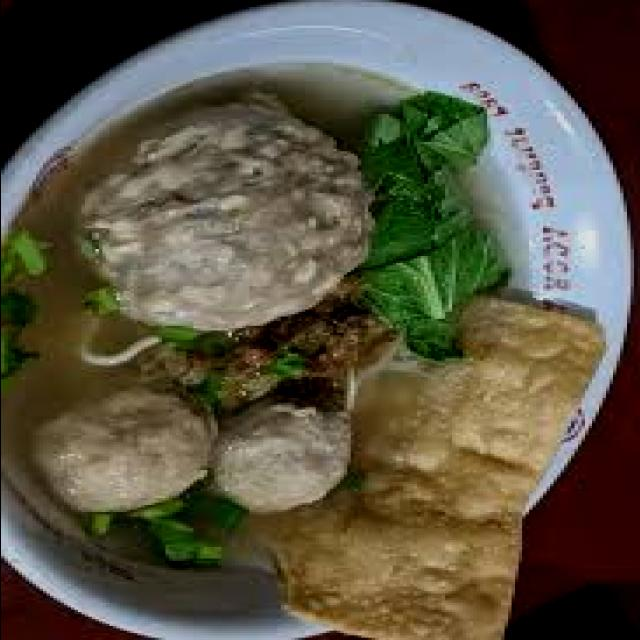bakso: (0, 63, 609, 640)
